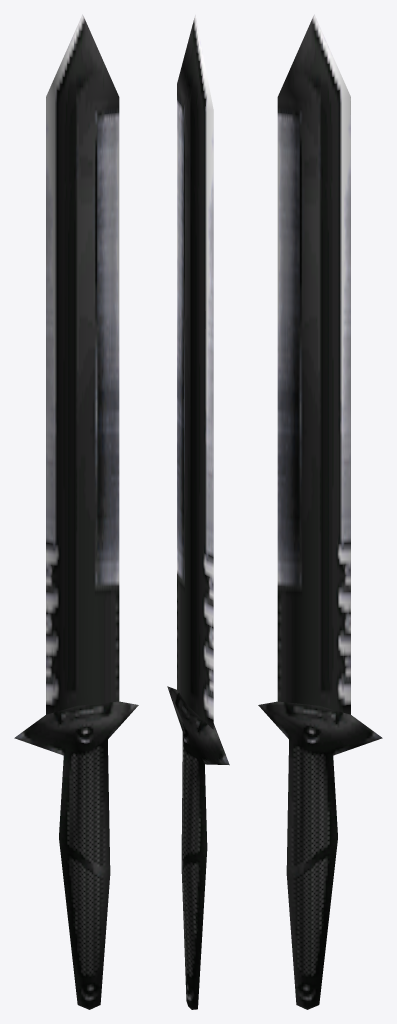
The model's file is Hard Sword.fbx.
3 views of the same model, side by side, from view 1: azimuth 90°, elevation 25°; view 2: azimuth 210°, elevation 25°; view 3: azimuth 270°, elevation 25° (orthographic).
Visible parts, largest first — view 1: object_1, object_0; view 2: object_1, object_0; view 3: object_1, object_0.
Part boxes in pixels (x1=…): object_1: x1=46, y1=14, x2=119, y2=714; object_0: x1=14, y1=701, x2=138, y2=1009; object_1: x1=177, y1=14, x2=213, y2=729; object_0: x1=167, y1=686, x2=229, y2=1009; object_1: x1=277, y1=14, x2=350, y2=714; object_0: x1=258, y1=701, x2=382, y2=1009.
Bounding box in the file's own units: 4.47 × 168 × 19.1.
